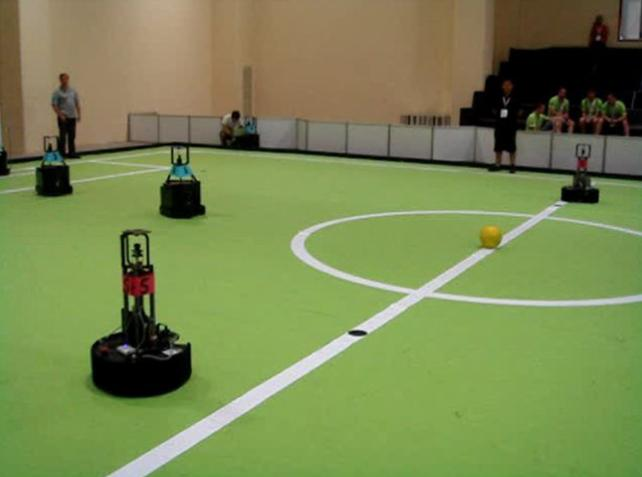robot: (85, 227, 193, 400), (155, 139, 209, 222), (559, 141, 604, 207), (31, 135, 76, 198)
